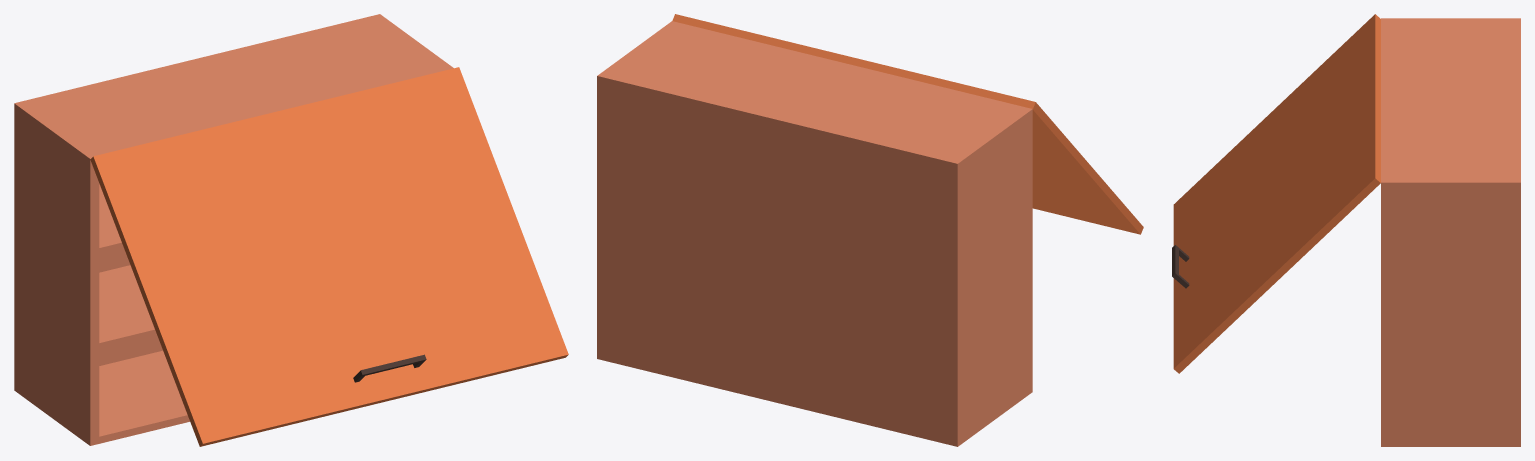
Rendered from meublesCuisineHaut1.fbx.
3 renders of one model, left to right at view 1: azimuth 30°, elevation 25°; view 2: azimuth 150°, elevation 25°; view 3: azimuth 270°, elevation 25°, orthographic. The views are drawn at different scales.
Parts seen in each view (by area): view 1: Placard1; view 2: Placard1; view 3: Placard1.
Part boxes in pixels (x1,y1,x2,y2): Placard1: (14,14,568,446); Placard1: (597,14,1143,446); Placard1: (1172,14,1520,446).
Size of the model in its own units: 400 by 305 by 359.
